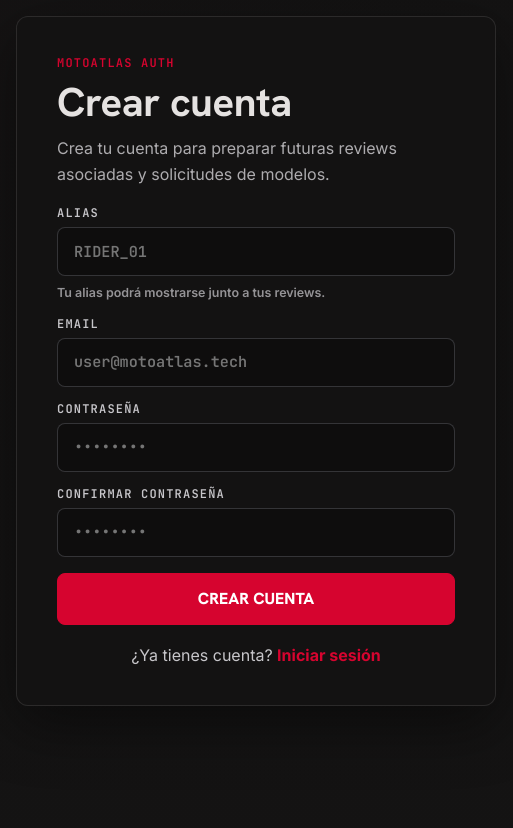
Scenario: AuthPage › envía registro con alias y muestra mensaje neutro seguro
Step 1. Type "MotoViajero" into the field labelled "Alias Tu alias podrá mostrarse junto a tus reviews." → (256, 252), box [57, 227, 455, 276]
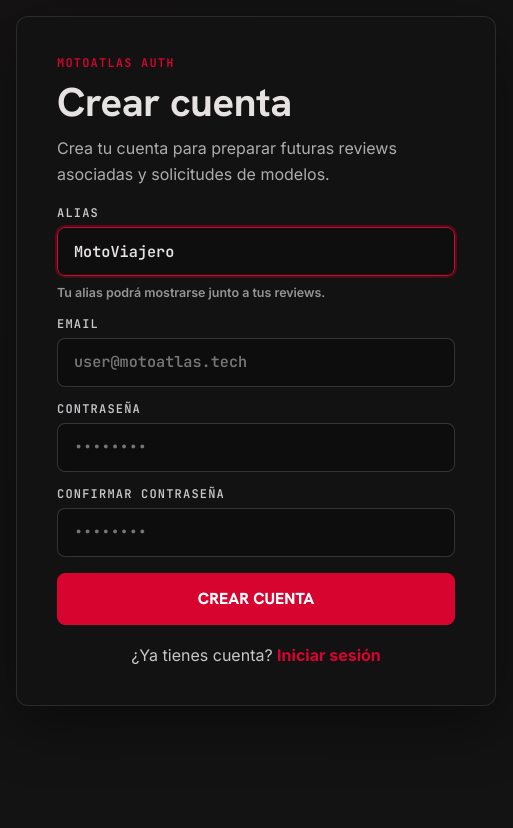
Step 2. Type "new@motoatlas.com" into the field labelled "Email" → (256, 362), box [57, 338, 455, 387]
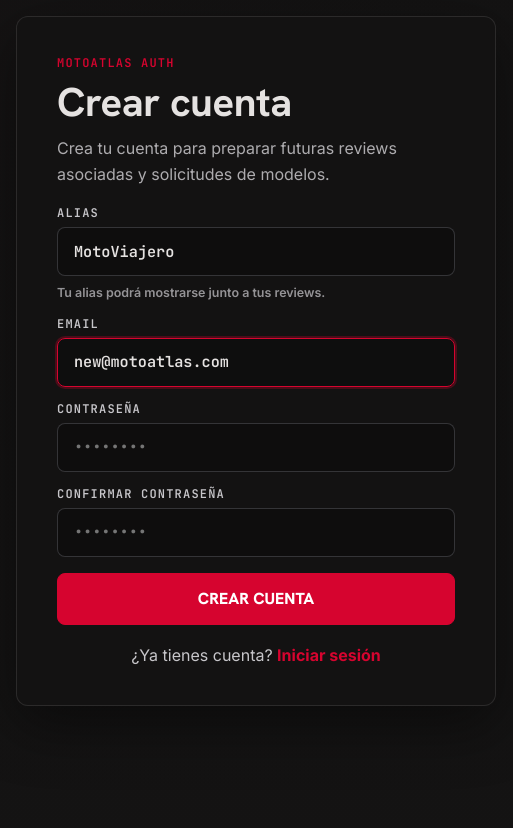
Step 3. Type "secret123" into the password field labelled "Contraseña" → (256, 447), box [57, 423, 455, 472]
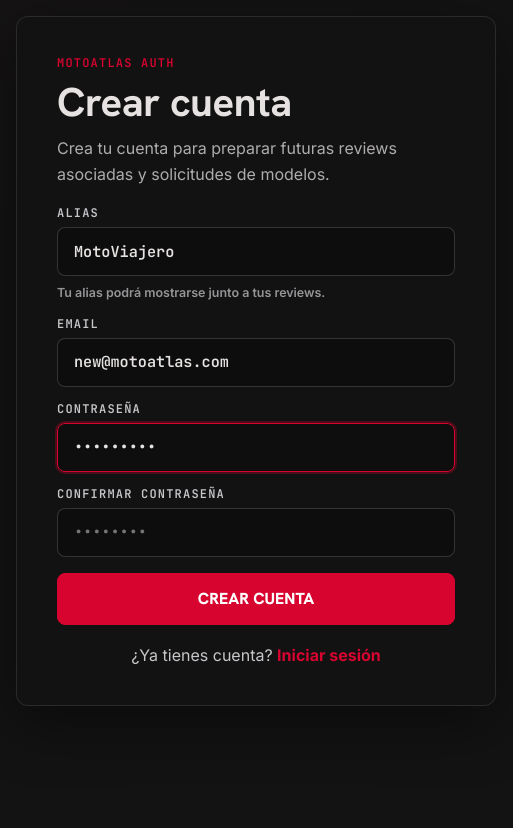
Step 4. Type "secret123" into the password field labelled "Confirmar contraseña" → (256, 532), box [57, 508, 455, 557]
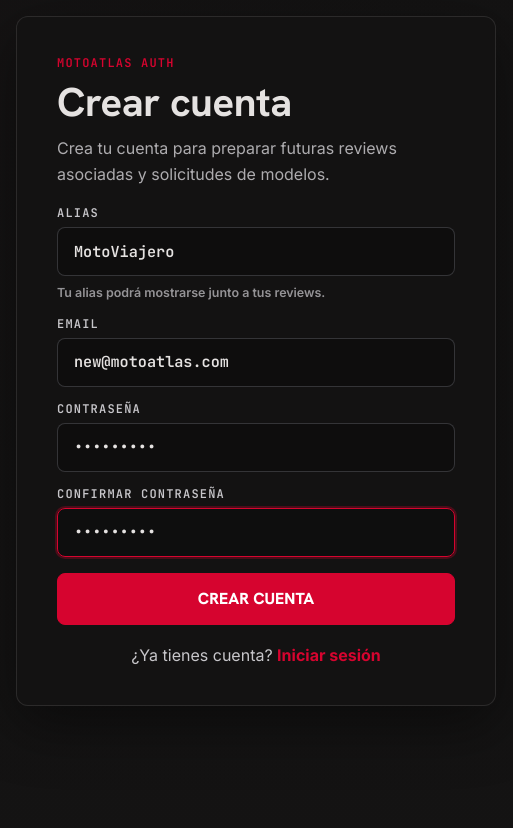
Step 5. Click the button "Crear cuenta" → (256, 599), box [57, 573, 455, 625]
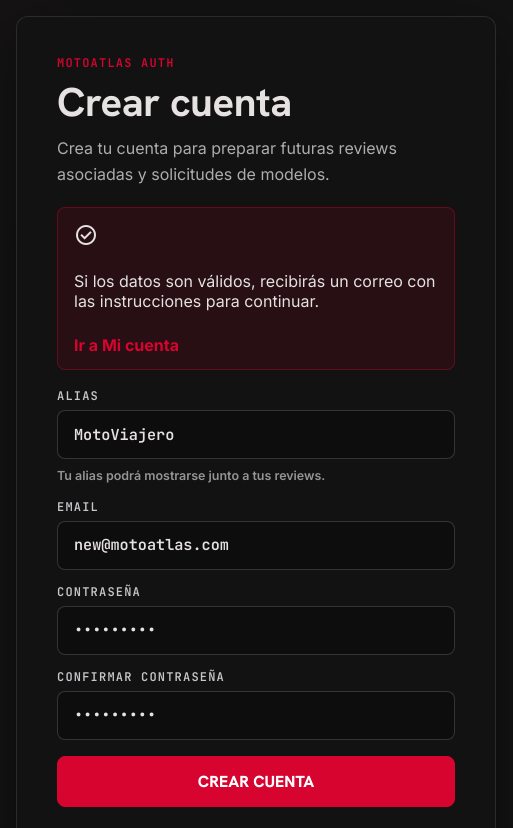
expect the message does not show "email ya existe": met, box [57, 207, 455, 370]
expect the message shows "Si los datos son válidos, recibirás un correo con las instrucciones para continuar.": met, box [74, 271, 436, 311]
